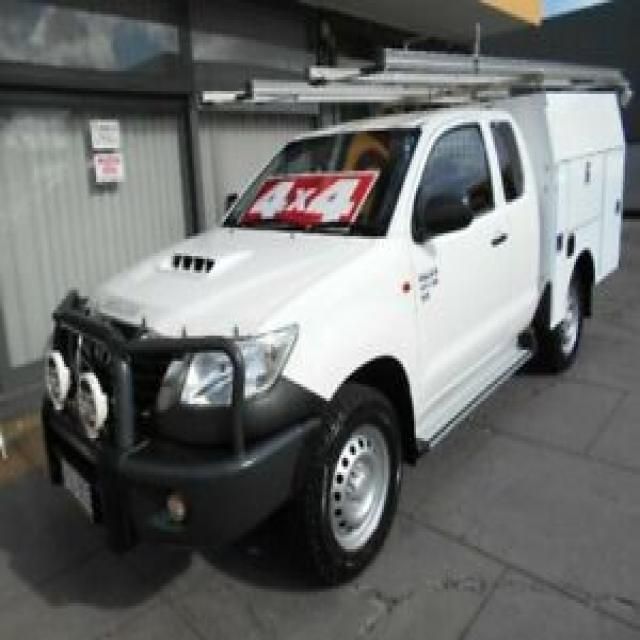light_vehicle: (36, 71, 621, 600)
